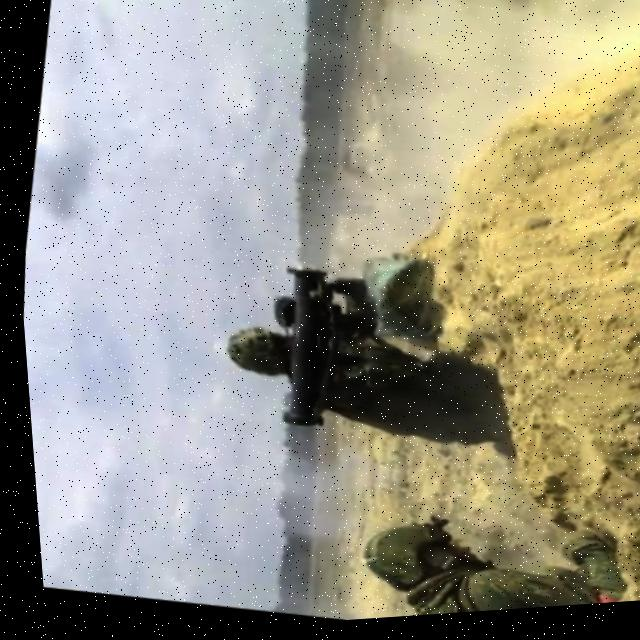rocket: (244, 261, 347, 439)
